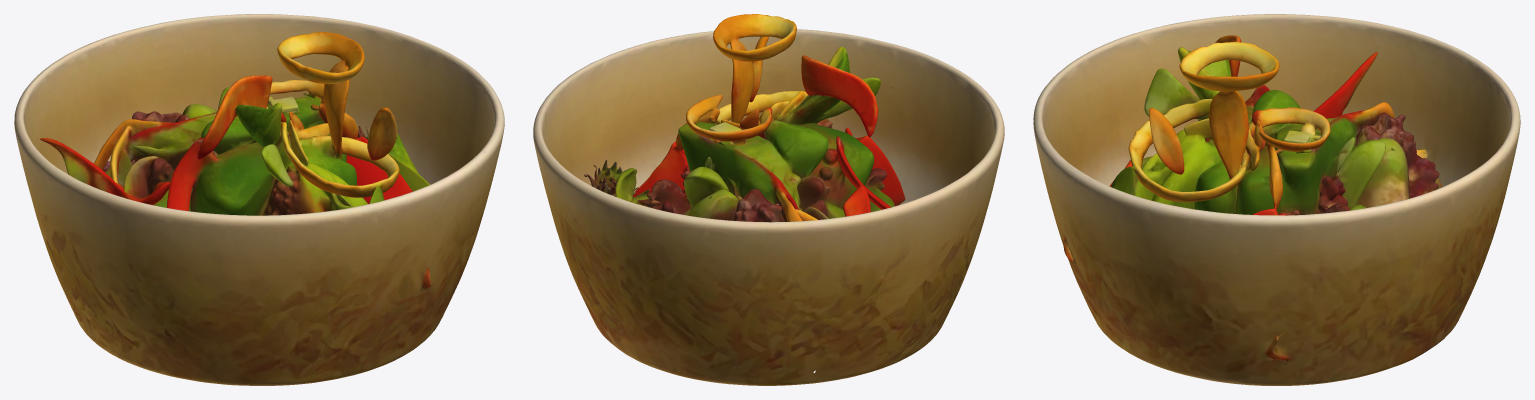
Rendered from salad-b.glb.
The picture shows the model from 3 angles, left to right: view 1: azimuth 30°, elevation 25°; view 2: azimuth 150°, elevation 25°; view 3: azimuth 270°, elevation 25°; orthographic projection. The views are drawn at different scales.
Visible parts, largest first — view 1: tripo_node_c03b4518-d0d8-4972-99db-cc41c9e00f7a; view 2: tripo_node_c03b4518-d0d8-4972-99db-cc41c9e00f7a; view 3: tripo_node_c03b4518-d0d8-4972-99db-cc41c9e00f7a.
Part boxes in pixels (bbox=[...]): tripo_node_c03b4518-d0d8-4972-99db-cc41c9e00f7a: bbox=[14, 14, 504, 385]; tripo_node_c03b4518-d0d8-4972-99db-cc41c9e00f7a: bbox=[533, 14, 1004, 385]; tripo_node_c03b4518-d0d8-4972-99db-cc41c9e00f7a: bbox=[1033, 14, 1520, 385].
Bounding box in the file's own units: 0.9793 × 0.5985 × 0.9752.
Materials: 1 (1 with a texture image).
